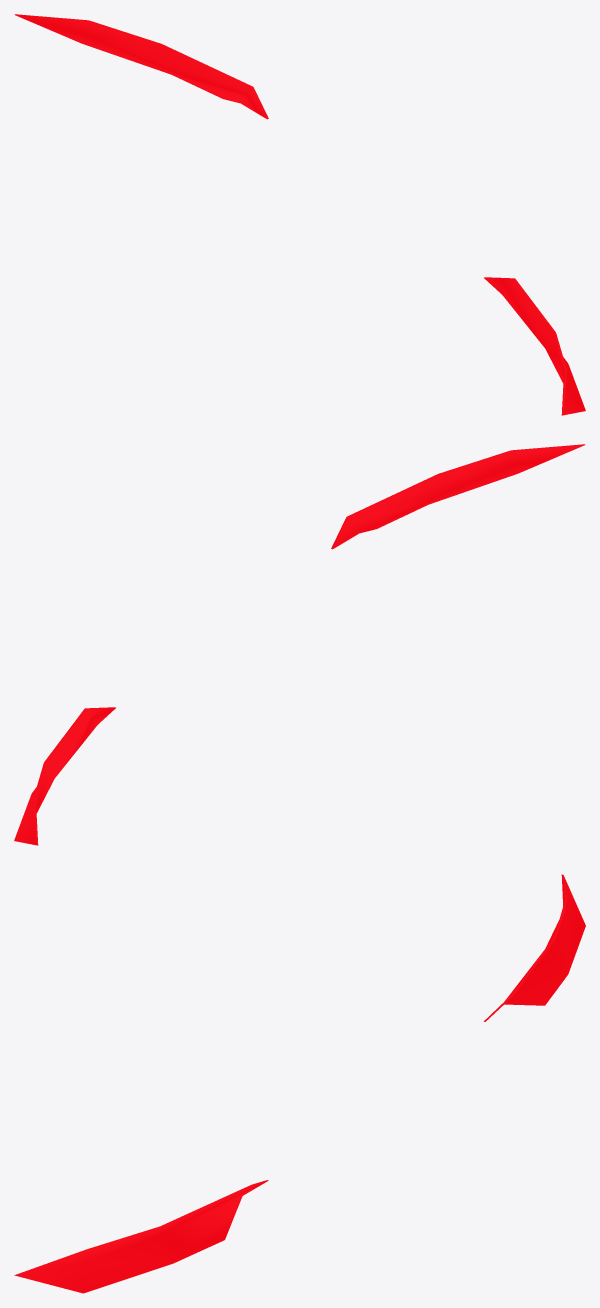
File: brakeLights.glb
3 renders of one model, top to bottom at view 1: azimuth 30°, elevation 25°; view 2: azimuth 150°, elevation 25°; view 3: azimuth 330°, elevation 25°, orthographic.
Visible parts, largest first — view 1: Car 02_Body.002; view 2: Car 02_Body.002; view 3: Car 02_Body.002.
Boxes of the visible parts, bbox=[...] form: Car 02_Body.002: bbox=[14, 14, 585, 415]; Car 02_Body.002: bbox=[14, 444, 585, 845]; Car 02_Body.002: bbox=[14, 874, 585, 1293].
Size of the model in its own units: 0.2596 by 0.0878 by 2.54.
